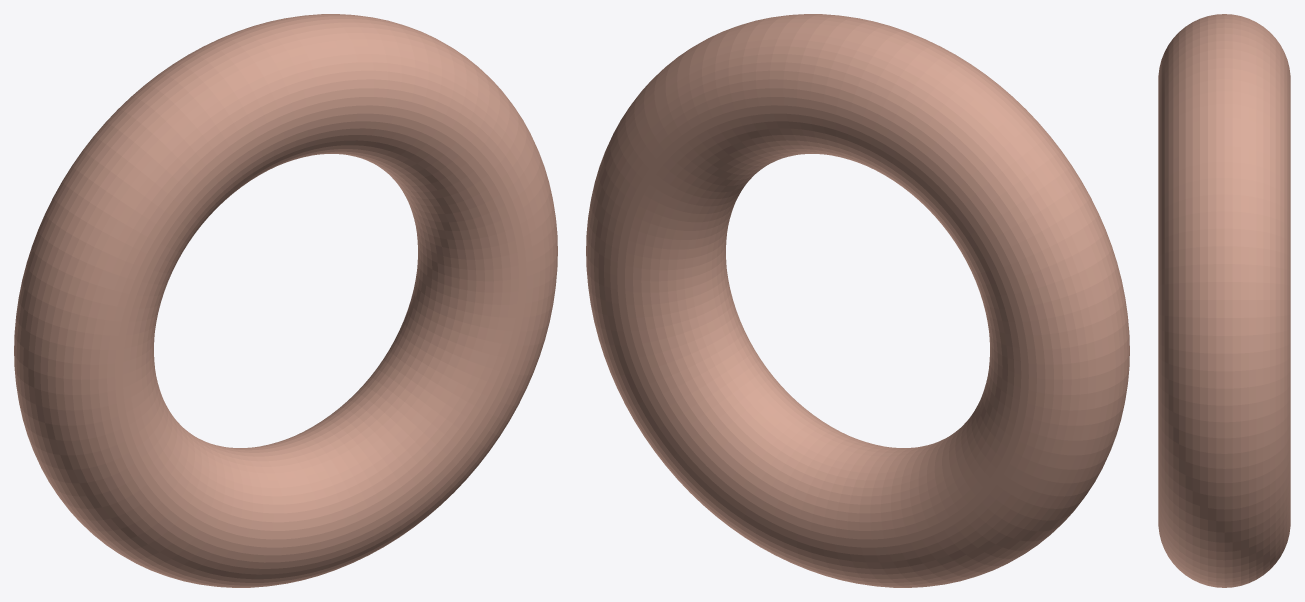
3 views of the same model, side by side, from view 1: azimuth 30°, elevation 25°; view 2: azimuth 150°, elevation 25°; view 3: azimuth 270°, elevation 25° (orthographic). The views are drawn at different scales.
Parts seen in each view (by area): view 1: world; view 2: world; view 3: world.
Boxes of the visible parts, bbox=[...] form: world: bbox=[14, 14, 557, 587]; world: bbox=[586, 14, 1129, 587]; world: bbox=[1158, 14, 1290, 587].
Size of the model in its own units: 29.47 by 29.47 by 6.79.
